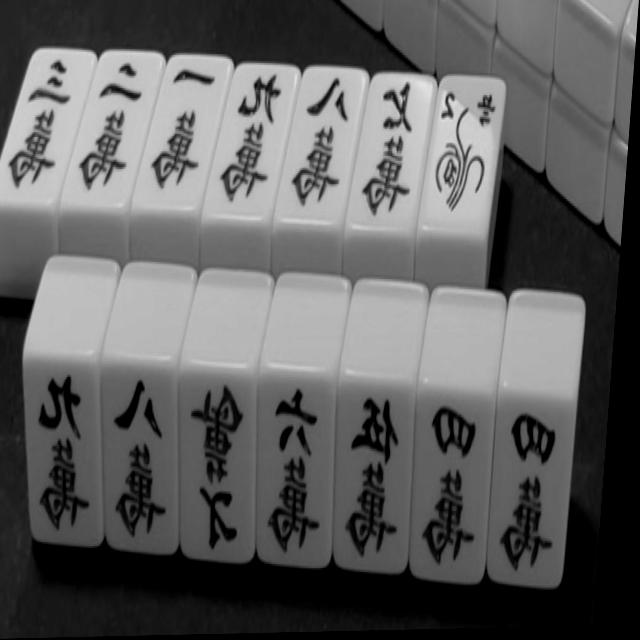f2: (417, 74, 509, 235)
m1: (148, 59, 221, 210)
m2: (75, 50, 150, 197)
m3: (0, 51, 94, 204)
m4: (401, 391, 499, 586), (479, 404, 580, 592)
m5: (322, 381, 421, 572)
m6: (245, 375, 344, 568)
m7: (163, 378, 268, 567), (356, 75, 427, 225)
m8: (89, 367, 193, 552), (280, 69, 369, 223)
m9: (11, 361, 118, 548), (205, 68, 298, 215)
